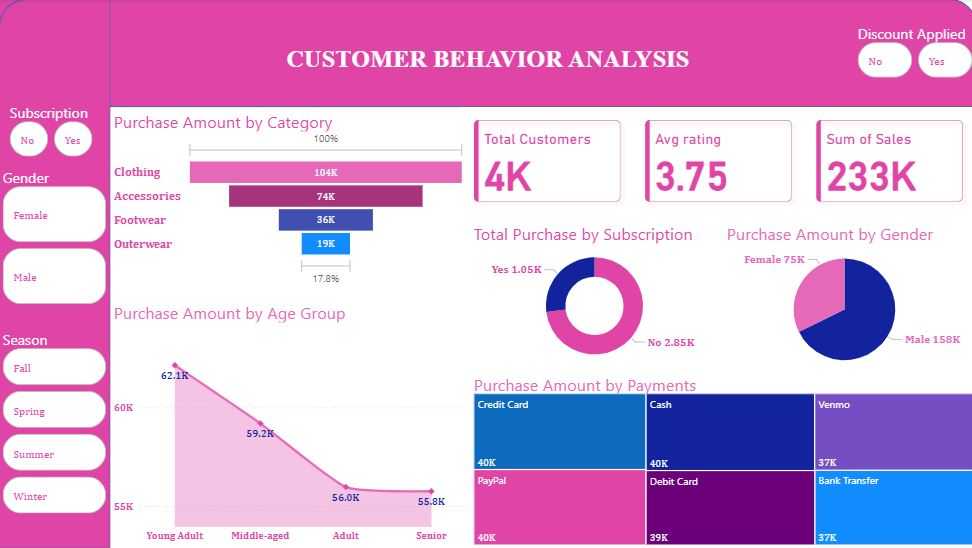

The page's visual inventory and layout, read from the dashboard file:
{"tool":"powerbi","page":{"name":"Page 1","canvas":[1280,720],"ordinal":0},"visuals":[{"type":"shape","box":[0,0,1280,141.6],"z":0},{"type":"cardVisual","fields":{"Data":["customer_behavior customer.Total Customers","customer_behavior customer.Avg rating","Sum(customer_behavior customer.purchase_amount)"]},"box":[605,141.6,675,141.6],"z":2000},{"type":"textbox","box":[0,54.3,1280,60.1],"z":3000},{"type":"donutChart","title":"Total Purchase by Subscription","fields":{"Category":["customer_behavior customer.subscription_status"],"Y":["CountNonNull(customer_behavior customer.purchase_amount)"]},"box":[616.6,291.9,326,197.7],"z":4000},{"type":"funnel","title":"Purchase Amount by Category","fields":{"Y":["Sum(customer_behavior customer.purchase_amount)"],"Category":["customer_behavior customer.category"]},"box":[145.9,145.9,470.5,234.5],"z":5000},{"type":"stackedAreaChart","title":"Purchase Amount by Age Group","fields":{"Category":["customer_behavior customer.age_group"],"Y":["Sum(customer_behavior customer.purchase_amount)"]},"box":[145.9,394.7,470.5,324.6],"z":6000},{"type":"pieChart","title":"Purchase Amount by Gender","fields":{"Category":["customer_behavior customer.gender"],"Y":["Sum(customer_behavior customer.purchase_amount)"]},"box":[947.8,291.9,318.1,206.8],"z":7000},{"type":"shape","box":[0,0,145.9,719.4],"z":7500},{"type":"treemap","title":"Purchase Amount by Payments","fields":{"Group":["customer_behavior customer.payment_method"],"Values":["Sum(customer_behavior customer.purchase_amount)"]},"box":[616.4,489.1,663.6,230.3],"z":8000},{"type":"advancedSlicerVisual","title":"Gender","fields":{"Values":["customer_behavior customer.gender"]},"box":[0,221.2,145.3,184.6],"z":8001},{"type":"advancedSlicerVisual","title":"Season","fields":{"Values":["customer_behavior customer.season"]},"box":[0,433.3,145.3,248.7],"z":8003},{"type":"advancedSlicerVisual","title":"Subscription","fields":{"Values":["customer_behavior customer.subscription_status"]},"box":[9.2,136.1,176.7,75.9],"z":8004},{"type":"advancedSlicerVisual","title":"Discount Applied","fields":{"Values":["customer_behavior customer.discount_applied"]},"box":[1119.8,32.9,160.2,75.8],"z":8005}]}

Visuals, with their boxes in screenshot pixels (x1, y1, x2, y2), scaled from the page's 1280x720 canvas onto the 972x548 screenshot:
shape: 0, 0, 971, 108
cardVisual - customer_behavior customer.Total Customers x customer_behavior customer.Avg rating: 459, 108, 971, 216
textbox: 0, 41, 971, 87
"Total Purchase by Subscription" donutChart: 468, 222, 716, 373
"Purchase Amount by Category" funnel: 111, 111, 468, 290
"Purchase Amount by Age Group" stackedAreaChart: 111, 300, 468, 547
"Purchase Amount by Gender" pieChart: 720, 222, 961, 380
shape: 0, 0, 111, 547
"Purchase Amount by Payments" treemap: 468, 372, 971, 547
"Gender" advancedSlicerVisual: 0, 168, 110, 309
"Season" advancedSlicerVisual: 0, 330, 110, 519
"Subscription" advancedSlicerVisual: 7, 104, 141, 161
"Discount Applied" advancedSlicerVisual: 850, 25, 971, 83
